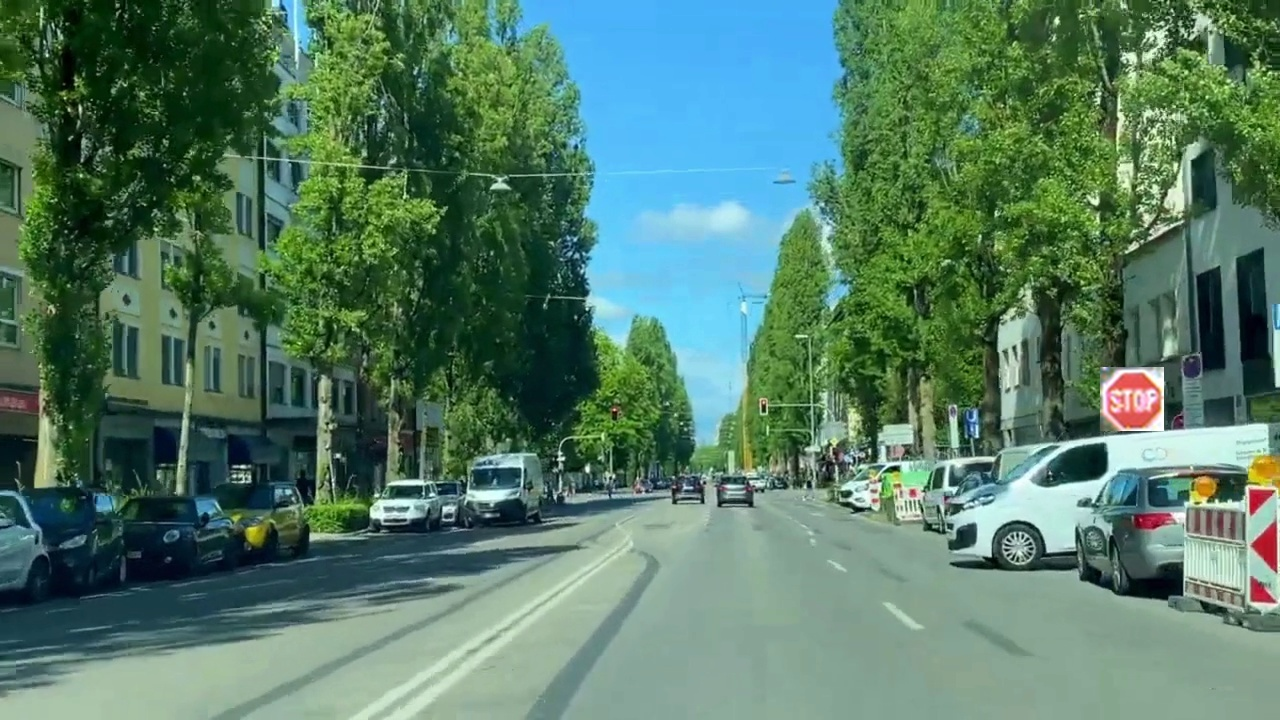Stop: (1100, 367, 1164, 431)
